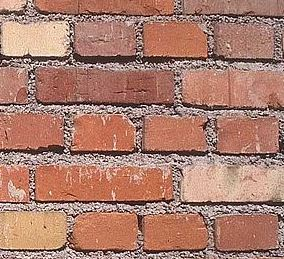brick: (34, 162, 175, 205), (31, 66, 177, 105), (180, 66, 283, 113), (182, 165, 284, 206), (215, 210, 281, 253), (1, 19, 71, 59), (215, 113, 280, 156), (71, 211, 139, 251), (1, 211, 69, 249), (1, 113, 65, 153), (143, 213, 206, 253), (142, 21, 209, 58), (74, 20, 138, 58), (70, 113, 134, 150), (214, 23, 277, 60), (145, 114, 209, 150)
